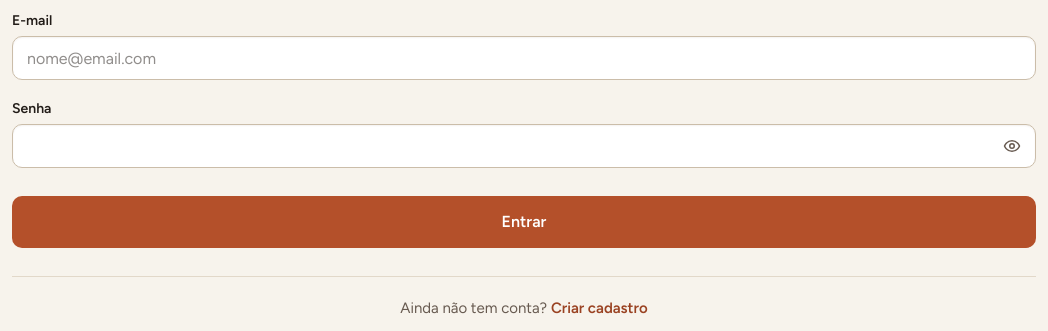
Test: LoginForm › alterna a visibilidade da senha
Click the button named "mostrar senha". click: [1012, 146]
box: [994,128,1030,164]
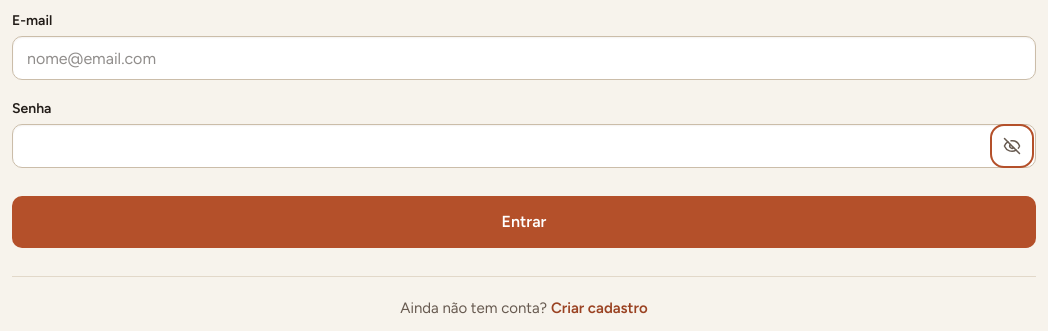
expect the button named "ocultar senha" is shown: met, box [994,128,1030,164]
